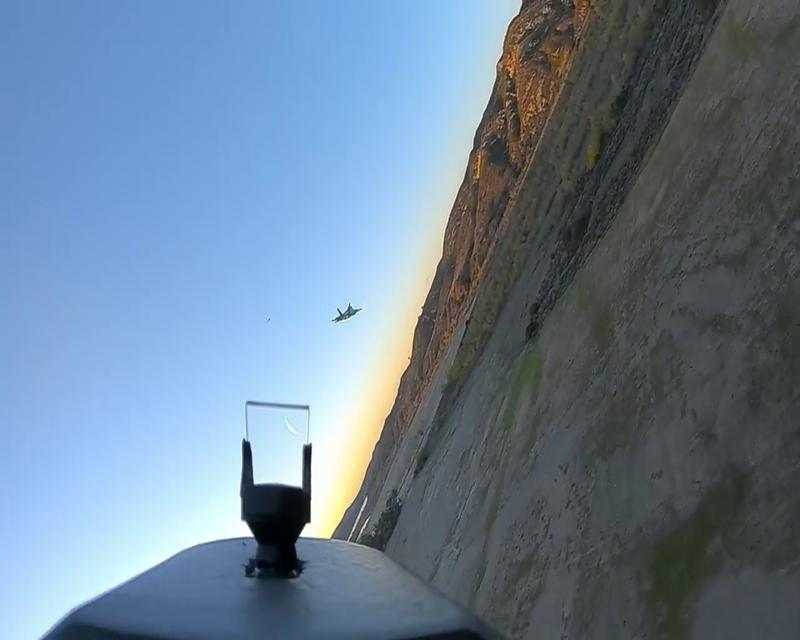UAV: (329, 302, 365, 324)
